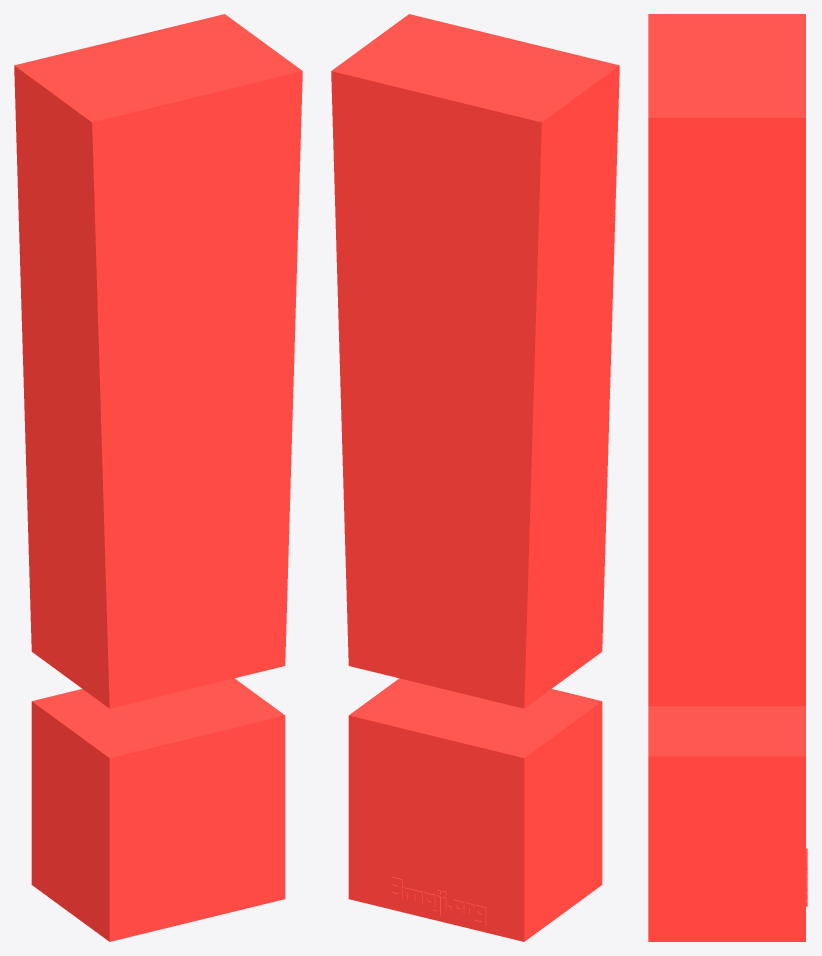
The model's file is red_exclamation_mark.gltf.
3 views of the same model, side by side, from view 1: azimuth 30°, elevation 25°; view 2: azimuth 150°, elevation 25°; view 3: azimuth 270°, elevation 25° (orthographic).
Parts seen in each view (by area): view 1: Cube.6449; view 2: Cube.6449; view 3: Cube.6449.
Part boxes in pixels (<box>): Cube.6449: <box>14,14,302,941</box>; Cube.6449: <box>331,14,619,941</box>; Cube.6449: <box>648,14,807,941</box>.
Bounding box in the file's own units: 0.5869 × 2.19 × 0.3795.
1 material, 1 textured.
